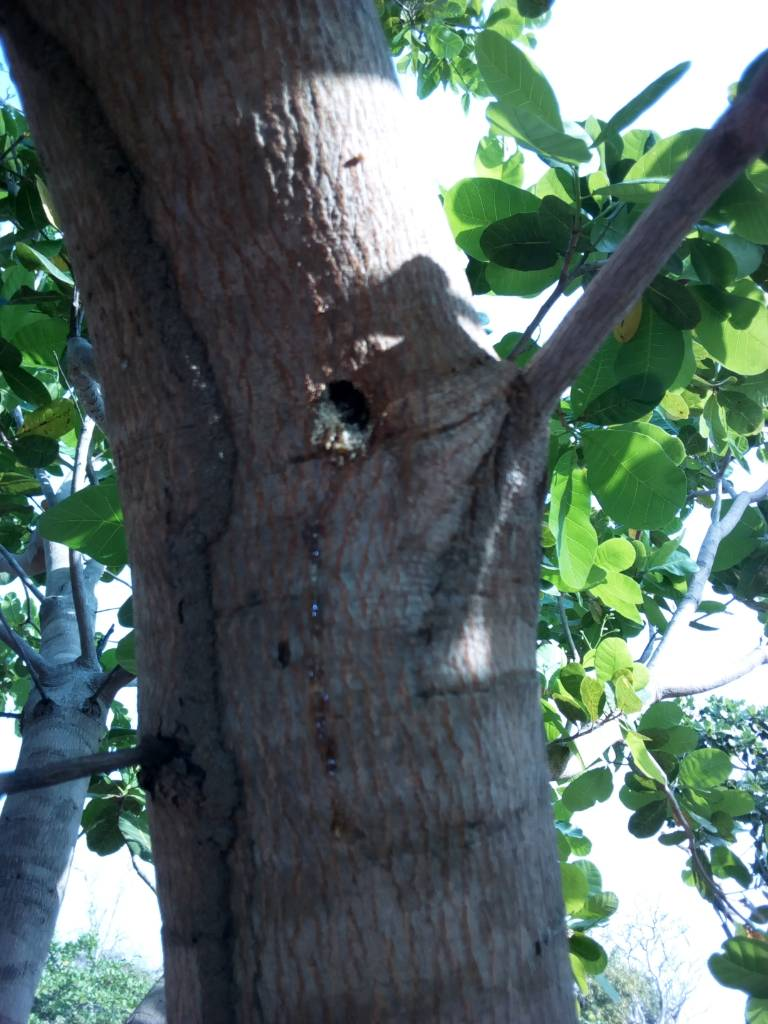Apate terebrans: (288, 369, 402, 499)
